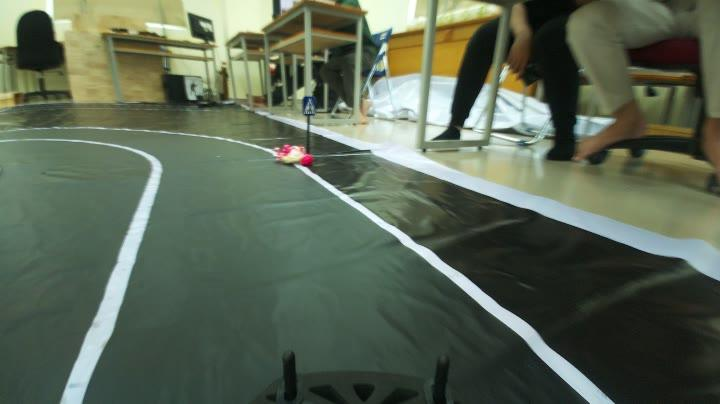crosswalk: (298, 91, 322, 121)
